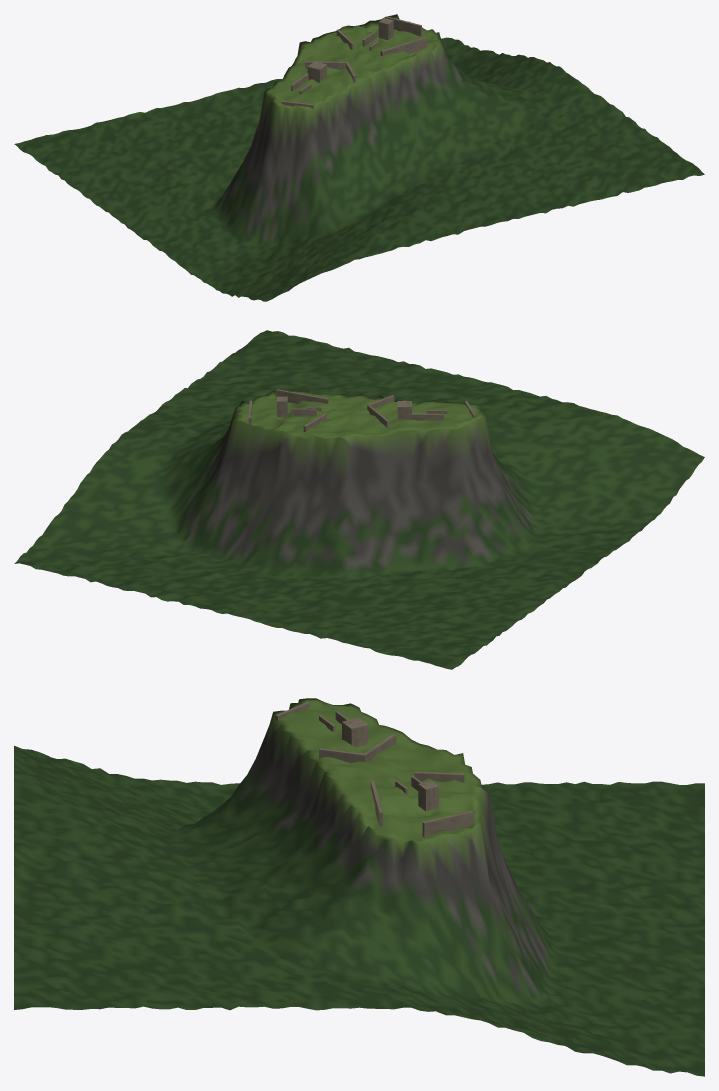
Rendered from neuschwanstein-b30.glb.
The picture shows the model from 3 angles, top to bottom: view 1: azimuth 30°, elevation 25°; view 2: azimuth 150°, elevation 25°; view 3: azimuth 270°, elevation 25°; orthographic projection. The views are drawn at different scales.
Size of the model in its own units: 32 by 9.22 by 32.
2 materials, 1 textured.
